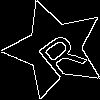R: (29, 24, 88, 82)
